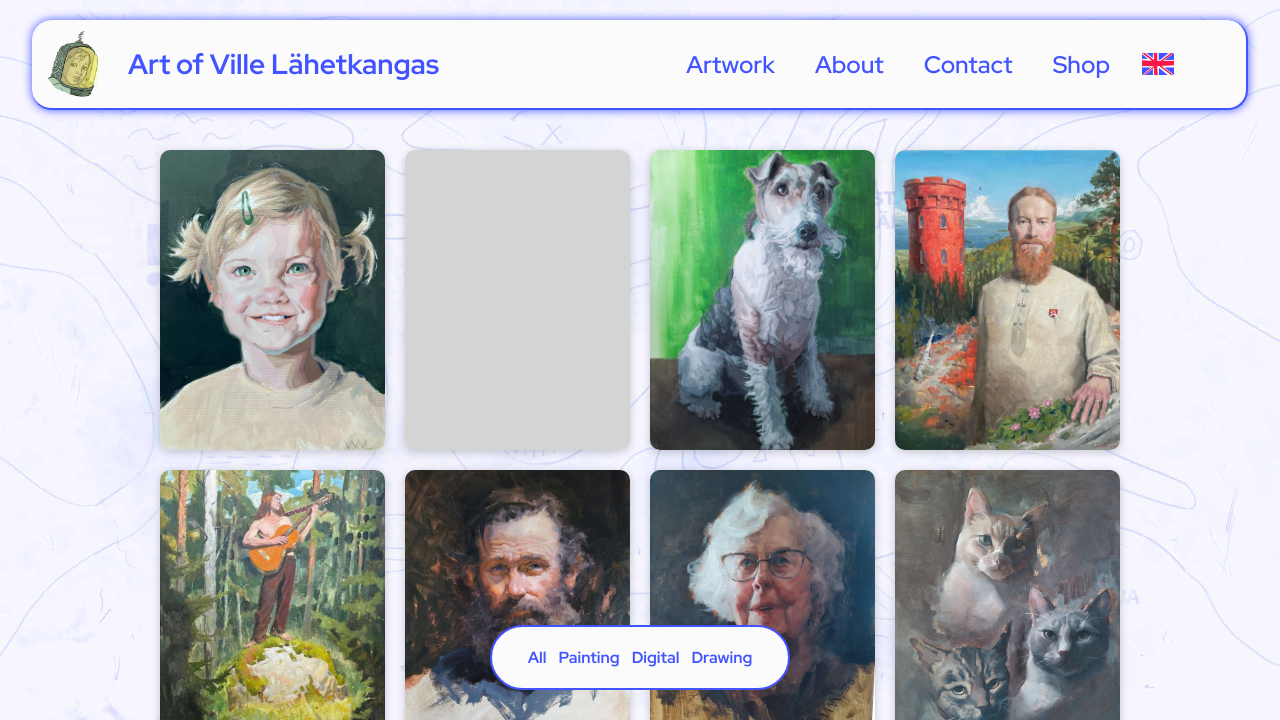
Test: Artwork page i18n › shows translated gallery filter labels when language is toggled
Expected: the text "All" is shown, [528, 647, 546, 668]
Expected: the text "Painting" is shown, [558, 647, 620, 668]
Note: Toggle language
Click the button with test id "lang-toggle": (1158, 64) [1136, 36, 1180, 92]
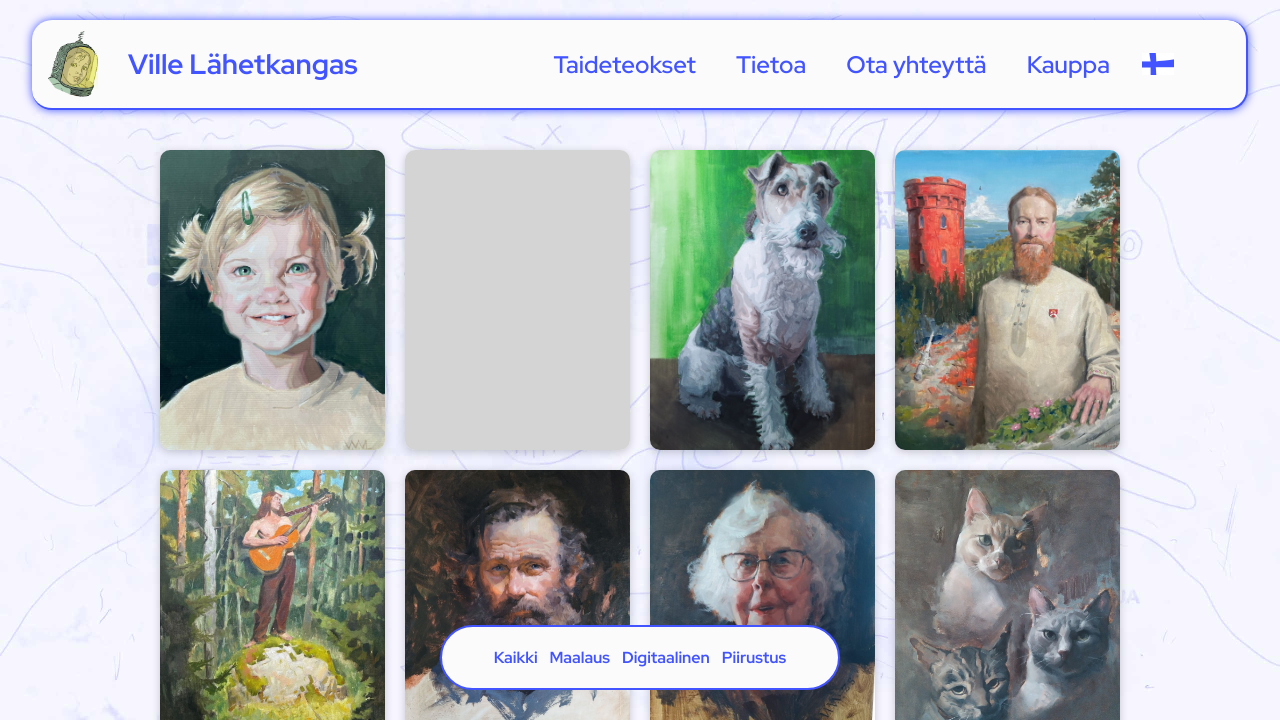
Result: the text "Kaikki" is shown at [494, 647, 538, 668]
Result: the text "Maalaus" is shown at [550, 647, 610, 668]
Result: the text "Digitaalinen" is shown at [622, 647, 710, 668]
